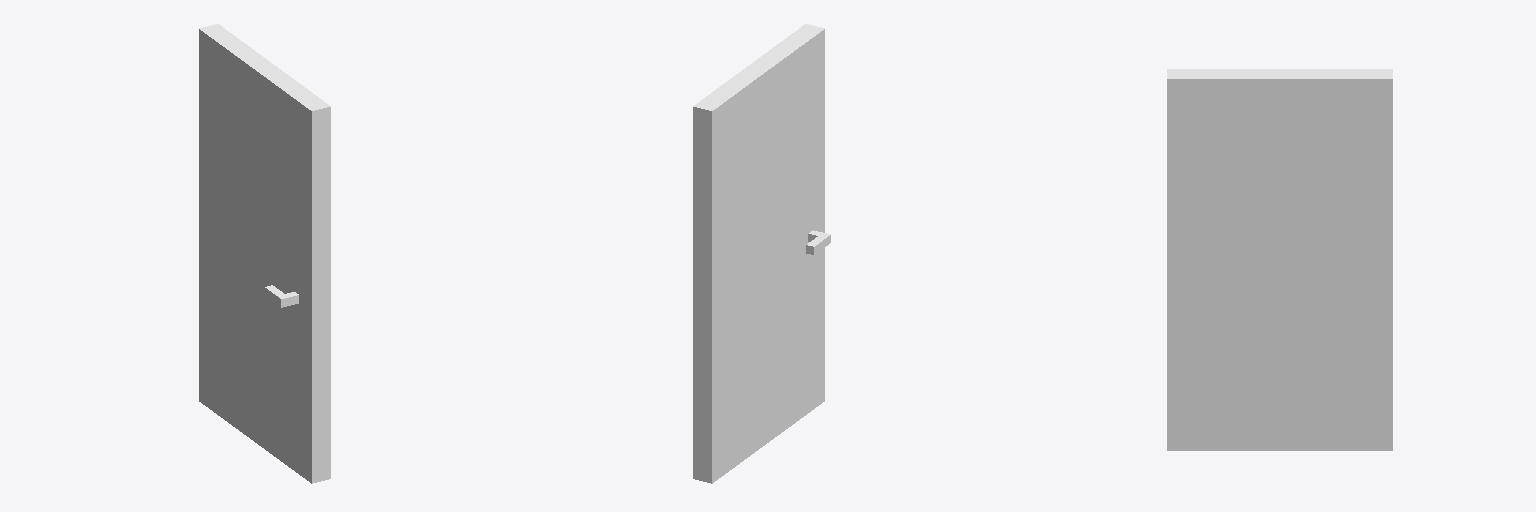
File: duerklink.obj
3 views of the same model, side by side, from view 1: azimuth 30°, elevation 25°; view 2: azimuth 150°, elevation 25°; view 3: azimuth 270°, elevation 25° (orthographic).
Visible parts, largest first — view 1: duerklink; view 2: duerklink; view 3: duerklink.
Part boxes in pixels (x1,y1,x2,y2): duerklink: (199,24,330,483); duerklink: (693,24,830,483); duerklink: (1167,69,1392,450).
Bounding box in the file's own units: 1.92 × 18.18 × 10.